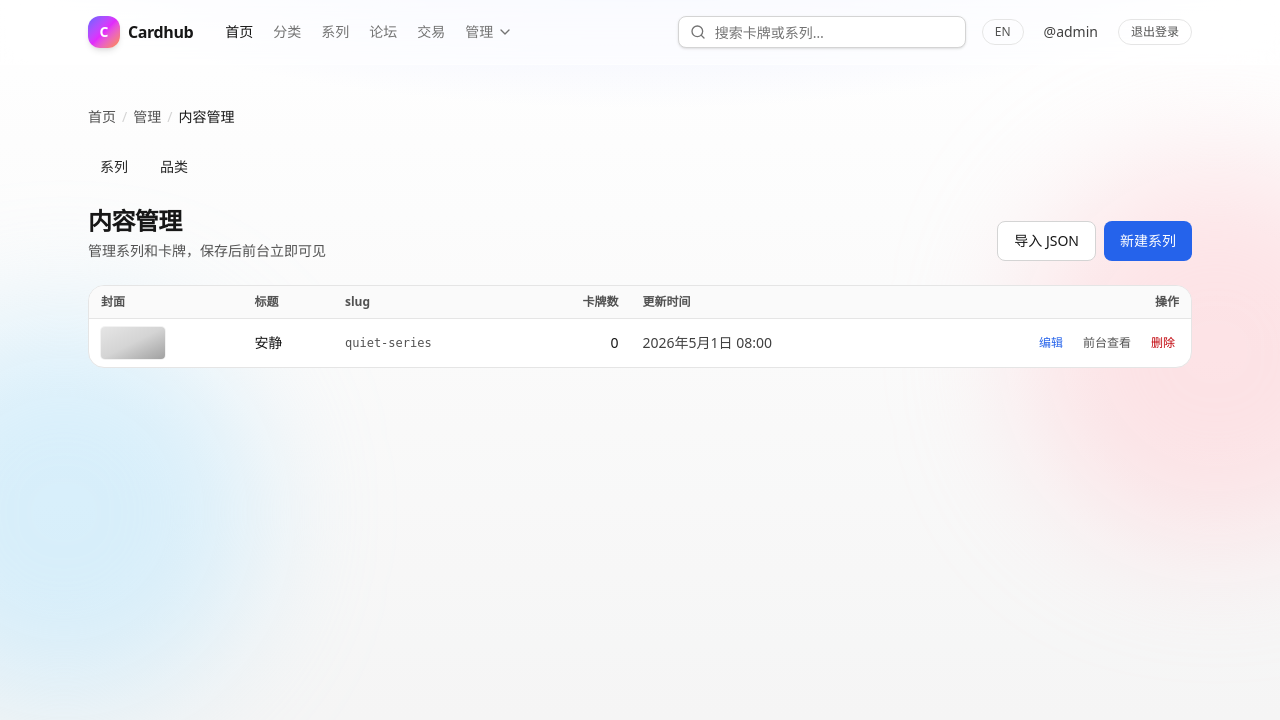
Scenario: CatalogSeriesPage delete › opens the force dialog immediately when a series has comments but no cards
Click the button with aria-label "删除「安静」": (1163, 343) [1147, 331, 1179, 355]
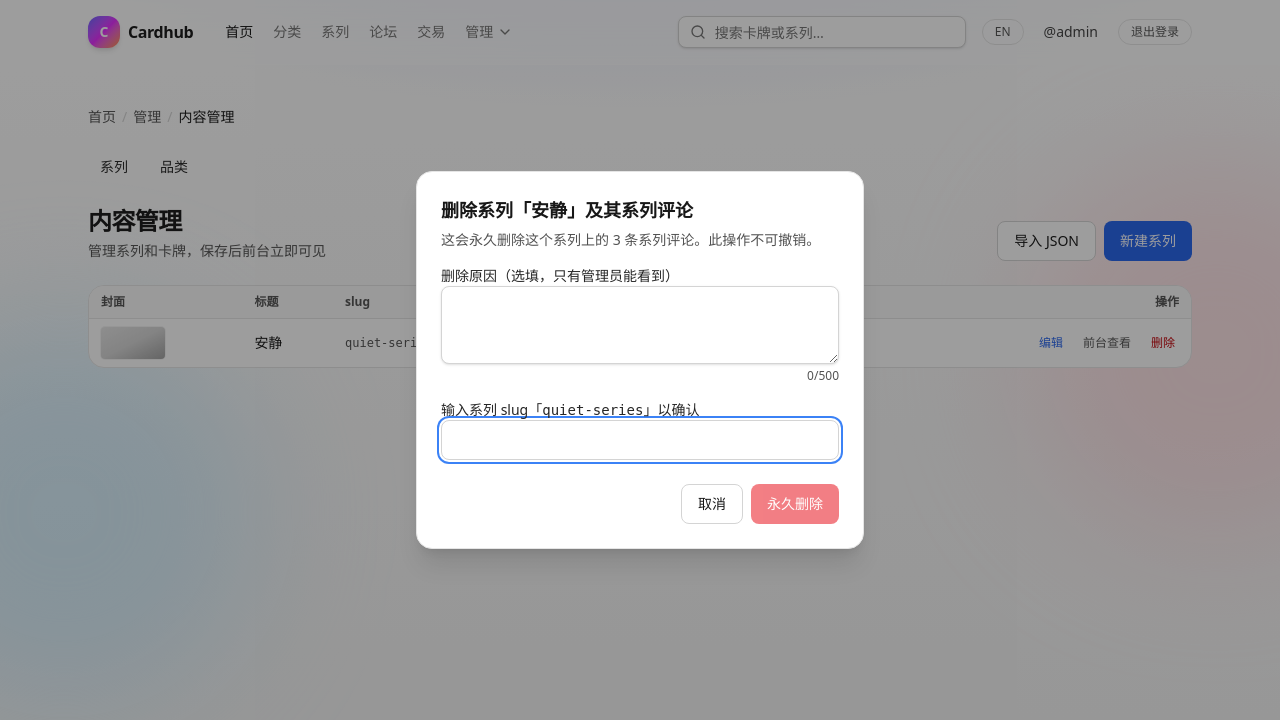
Check: the dialog does not show "这些卡牌下的", box [416, 171, 864, 549]
Check: the dialog shows "删除系列「安静」及其系列评论", box [441, 198, 693, 222]
Check: the dialog shows "3 条系列评论", box [441, 230, 820, 249]
